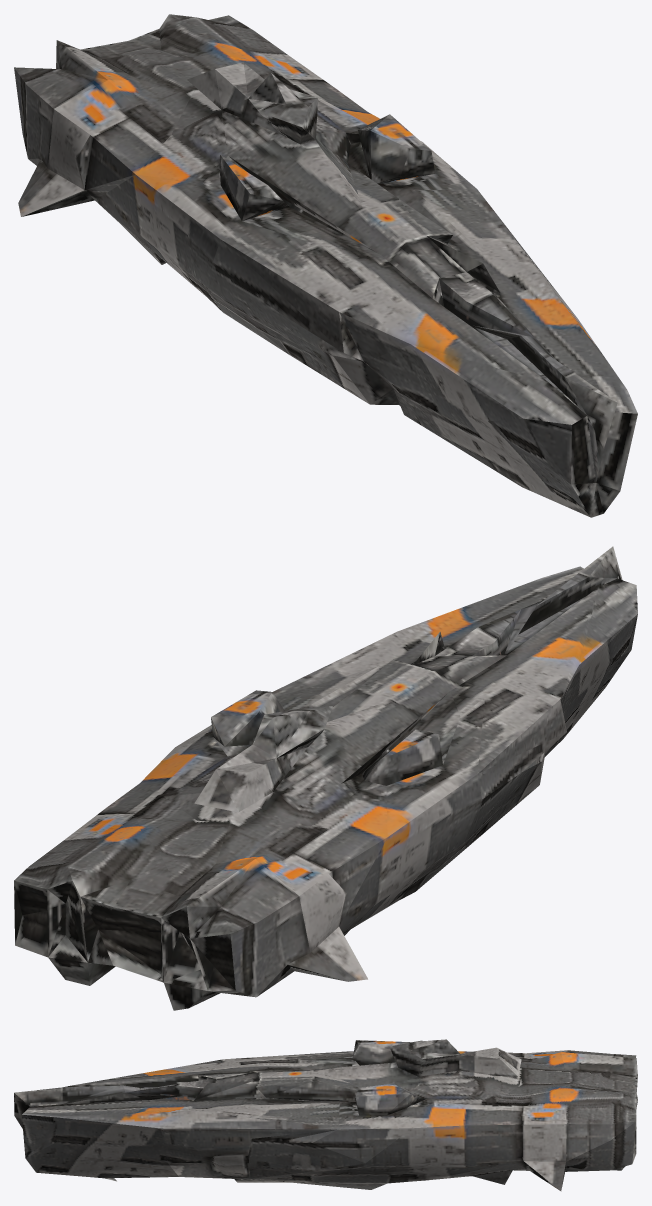
File: hard-500.glb
3 views of the same model, one above another, from view 1: azimuth 30°, elevation 25°; view 2: azimuth 150°, elevation 25°; view 3: azimuth 270°, elevation 25° (orthographic). The views are drawn at different scales.
Visible parts, largest first — view 1: Low; view 2: Low; view 3: Low.
Boxes of the visible parts, x1=… form: Low: x1=14, y1=14, x2=637, y2=517; Low: x1=14, y1=546, x2=637, y2=1010; Low: x1=14, y1=1039, x2=637, y2=1191.
Size of the model in its own units: 0.3855 by 0.2411 by 0.9779.
Materials: 1 (1 with a texture image).
